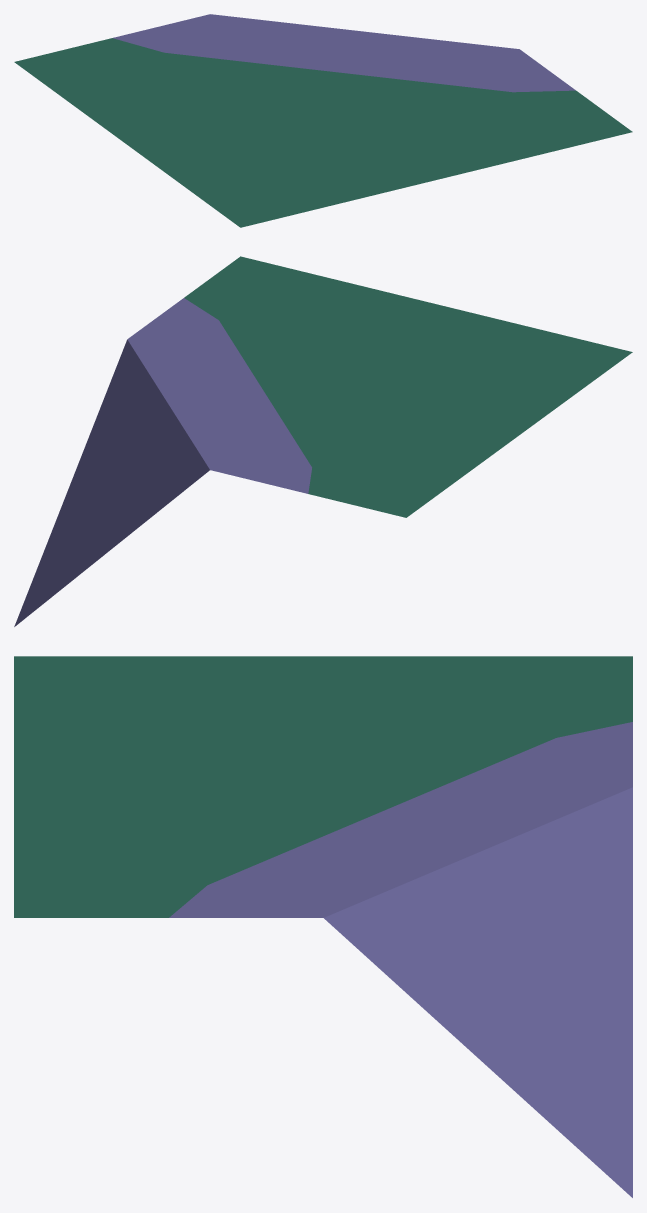
File: cliff-3.glb
3 renders of one model, top to bottom at view 1: azimuth 30°, elevation 25°; view 2: azimuth 150°, elevation 25°; view 3: azimuth 270°, elevation 25°, orthographic. The views are drawn at different scales.
Visible parts, largest first — view 1: terrain_sideCornerInner; view 2: terrain_sideCornerInner; view 3: terrain_sideCornerInner.
Boxes of the visible parts, left/top/right/bottom form: terrain_sideCornerInner: left=14, top=14, right=632, bottom=227; terrain_sideCornerInner: left=14, top=256, right=632, bottom=626; terrain_sideCornerInner: left=14, top=656, right=632, bottom=1197.
Bounding box in the file's own units: 1 × 0.5 × 1.
